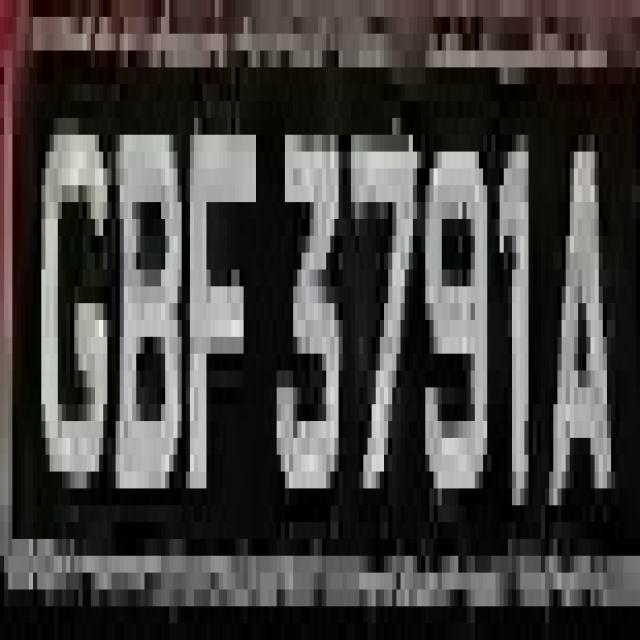1: (487, 101, 537, 556)
3: (276, 50, 334, 572)
7: (339, 84, 421, 556)
9: (413, 101, 495, 539)
A: (541, 84, 619, 539)
B: (111, 84, 178, 505)
F: (190, 84, 260, 522)
G: (33, 101, 112, 556)
